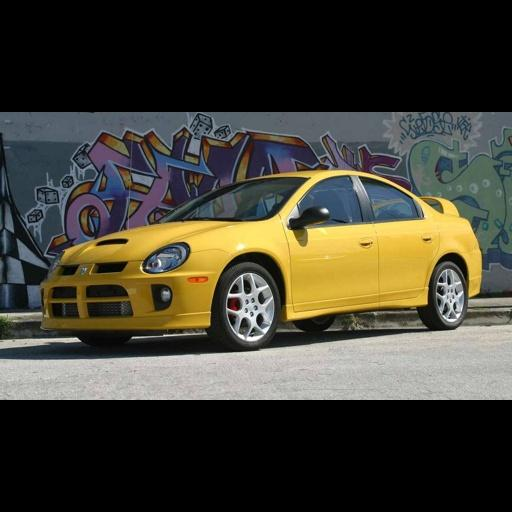sedan: (41, 169, 480, 348)
